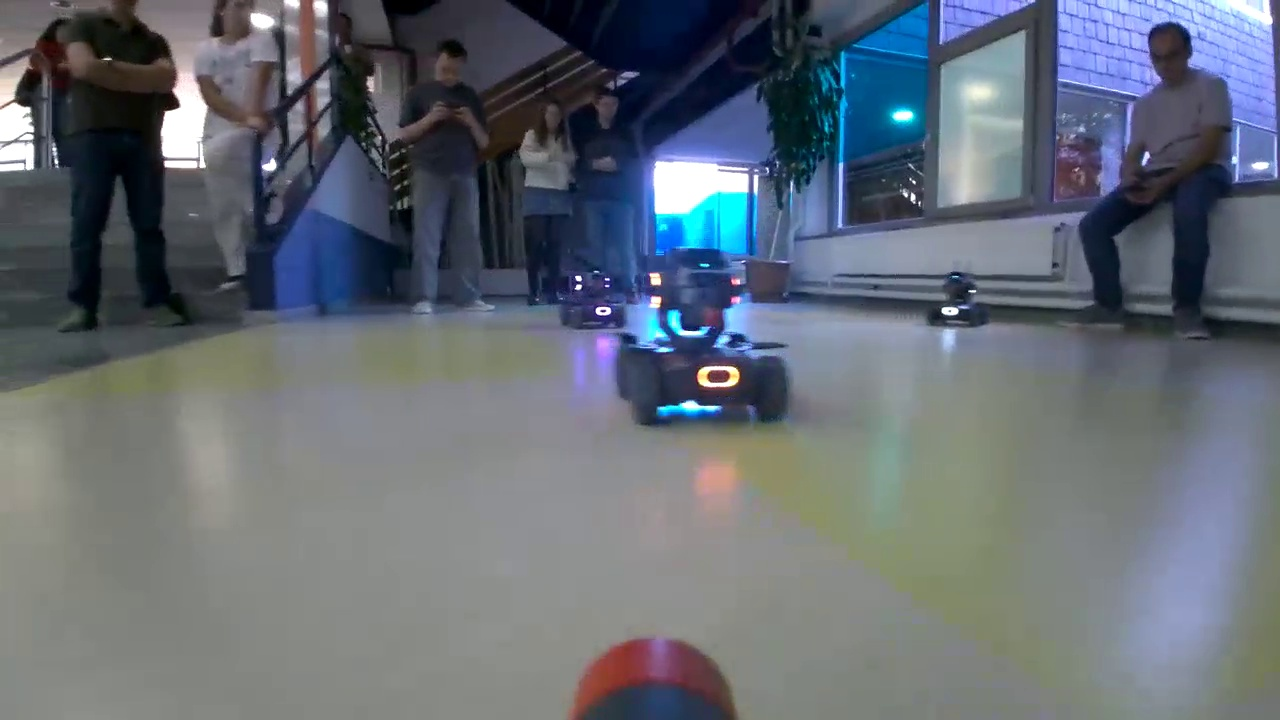robot: (616, 258, 790, 427), (556, 268, 626, 328), (928, 270, 986, 326)
